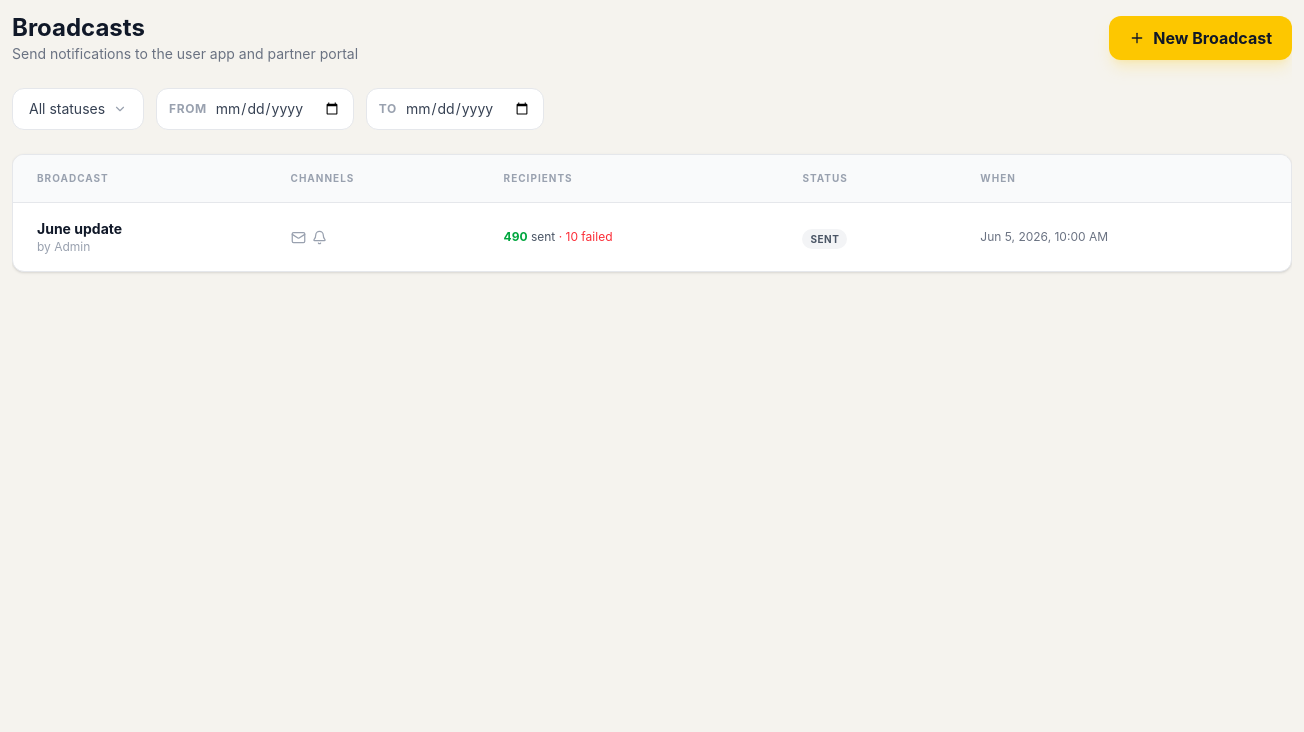
Test: Broadcasts › opens the composer and shows a live audience estimate
Step 1. Click the button "New Broadcast" → (1201, 38), box [1109,16,1292,60]
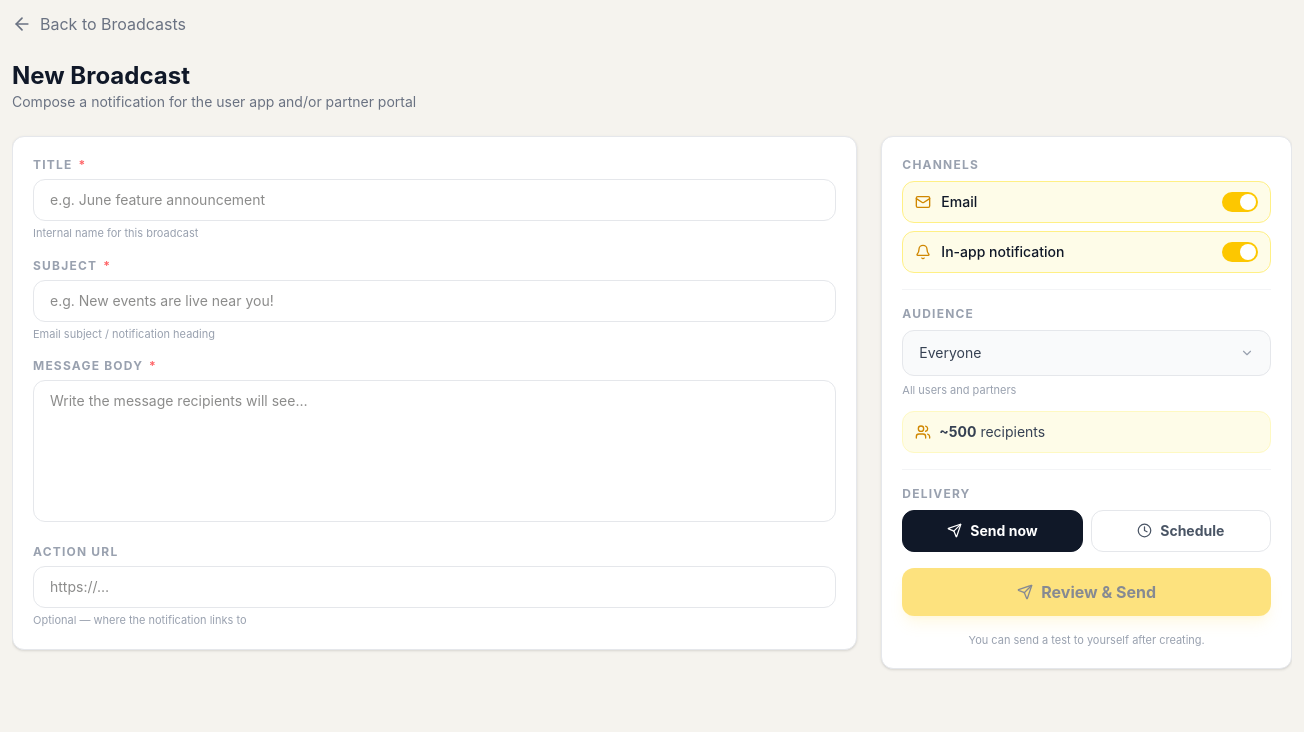
Expected: the heading "New Broadcast" is shown, [12,61,190,90]
Expected: the text "~500" is shown, [939,422,976,440]
